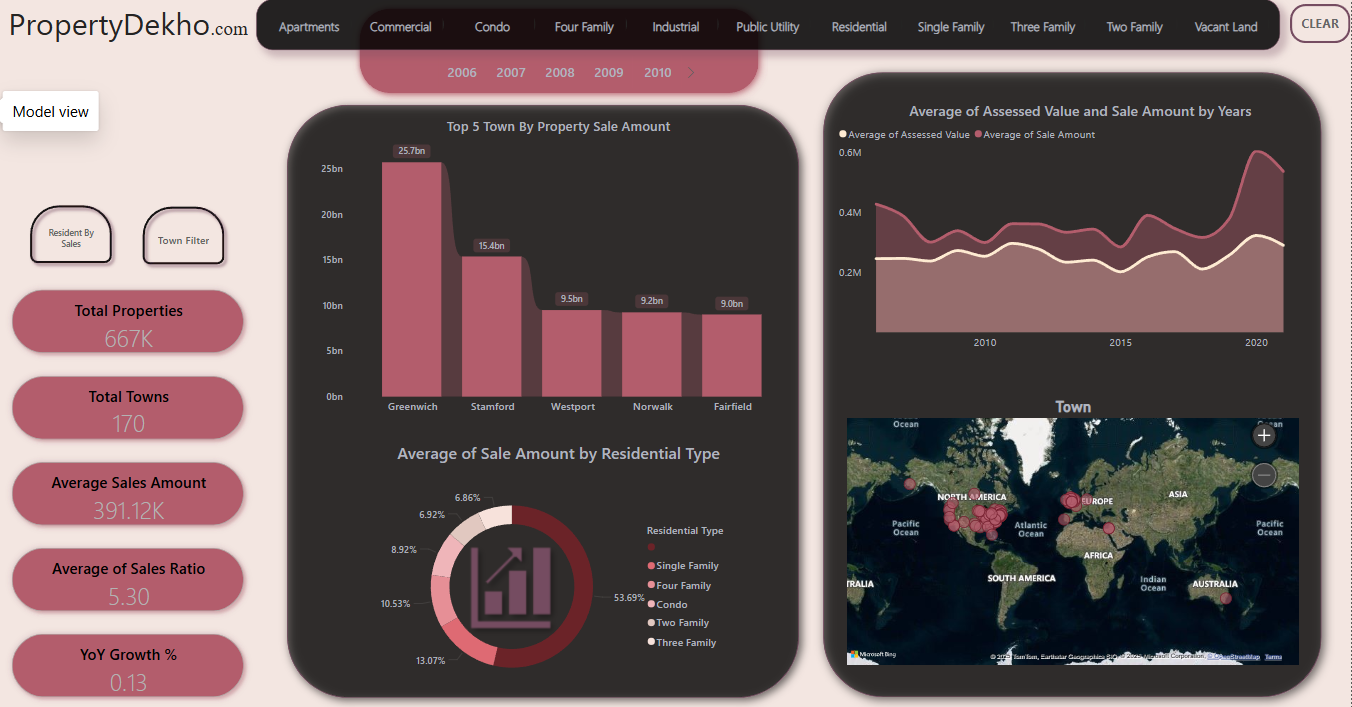

This screenshot's page, from the dashboard's own definition file:
{"tool":"powerbi","page":{"name":"Page 1","canvas":[1900,1000],"ordinal":0},"visuals":[{"type":"shape","box":[492,0,588,146],"z":0,"group":"g2"},{"type":"shape","box":[1140,84,738,916],"z":0,"group":"g3"},{"type":"shape","box":[386,132,754,868],"z":0},{"type":"actionButton","box":[33.8,280.8,133,99.2],"z":0,"group":"g4"},{"type":"donutChart","fields":{"Category":["Real_Estate_Sales_2001-2022_GL.Residential Type"],"Y":["Avg(Real_Estate_Sales_2001-2022_GL.Sale Amount)"]},"box":[526,622,520,378],"z":0,"group":"g1"},{"type":"slicer","fields":{"Values":["Real_Estate_Sales_2001-2022_GL.List Year"]},"box":[590,72,392,60],"z":1000,"group":"g2"},{"type":"actionButton","box":[192.4,281.8,133,99.2],"z":1000,"group":"g4"},{"type":"cardVisual","fields":{"Data":["Real_Estate_Sales_2001-2022_GL.Total Properties","Real_Estate_Sales_2001-2022_GL.Total Towns","Real_Estate_Sales_2001-2022_GL.Average Sales","Avg(Real_Estate_Sales_2001-2022_GL.Sales Ratio)","Real_Estate_Sales_2001-2022_GL.YoY Growth %"]},"box":[0,391.7,360,608.3],"z":1000},{"type":"map","fields":{"Category":["Real_Estate_Sales_2001-2022_GL.Town"]},"box":[1188,560,646,380],"z":1000,"group":"g3"},{"type":"actionButton","box":[630.7,742.3,217.5,182.5],"z":1000,"group":"g1"},{"type":"advancedSlicerVisual","fields":{"Values":["Real_Estate_Sales_2001-2022_GL.Property Type"]},"box":[360,0,1440,72],"z":2000,"group":"g2"},{"type":"lineChart","title":"Average of Assessed Value and Sale Amount by Years","fields":{"Y":["Avg(Real_Estate_Sales_2001-2022_GL.Assessed Value)","Avg(Real_Estate_Sales_2001-2022_GL.Sale Amount)"],"Category":["Real_Estate_Sales_2001-2022_GL.List Year"]},"box":[1176,142,690,360],"z":2000,"group":"g3"},{"type":"group","id":"g1","title":"Group 1","box":[526,622,520,378],"z":2000},{"type":"group","id":"g2","title":"Group 2","box":[360,0,1440,146],"z":3000},{"type":"textbox","box":[0,0,360,166.7],"z":4000},{"type":"group","id":"g3","title":"Group 3","box":[1140,84,738,916],"z":5000},{"type":"actionButton","box":[1815,7.5,85,55],"z":6000},{"type":"columnChart","title":"Top 5 Town By Property Sale Amount","fields":{"Y":["Sum(Real_Estate_Sales_2001-2022_GL.Sale Amount)"],"Category":["Real_Estate_Sales_2001-2022_GL.Town"]},"box":[446,166,678,428],"z":7000},{"type":"group","id":"g4","title":"Group 4","box":[33.8,280.8,291.3,99.2],"z":9000}]}

Visuals, with their boxes in screenshot pixels (x1, y1, x2, y2), scaled from the page's 1900x1000 canvas onto the 1352x707 screenshot:
shape: bbox(350, 0, 769, 103)
shape: bbox(811, 59, 1336, 706)
shape: bbox(275, 93, 811, 706)
actionButton: bbox(24, 199, 119, 269)
donutChart - Real_Estate_Sales_2001-2022_GL.Residential Type x Avg(Real_Estate_Sales_2001-2022_GL.Sale Amount): bbox(374, 440, 744, 706)
slicer - Real_Estate_Sales_2001-2022_GL.List Year: bbox(420, 51, 699, 93)
actionButton: bbox(137, 199, 232, 269)
cardVisual - Real_Estate_Sales_2001-2022_GL.Total Properties x Real_Estate_Sales_2001-2022_GL.Total Towns: bbox(0, 277, 256, 706)
map - Real_Estate_Sales_2001-2022_GL.Town: bbox(845, 396, 1305, 665)
actionButton: bbox(449, 525, 604, 654)
advancedSlicerVisual - Real_Estate_Sales_2001-2022_GL.Property Type: bbox(256, 0, 1281, 51)
"Average of Assessed Value and Sale Amount by Years" lineChart: bbox(837, 100, 1328, 355)
"Group 1" group: bbox(374, 440, 744, 706)
"Group 2" group: bbox(256, 0, 1281, 103)
textbox: bbox(0, 0, 256, 118)
"Group 3" group: bbox(811, 59, 1336, 706)
actionButton: bbox(1292, 5, 1351, 44)
"Top 5 Town By Property Sale Amount" columnChart: bbox(317, 117, 800, 420)
"Group 4" group: bbox(24, 199, 231, 269)
